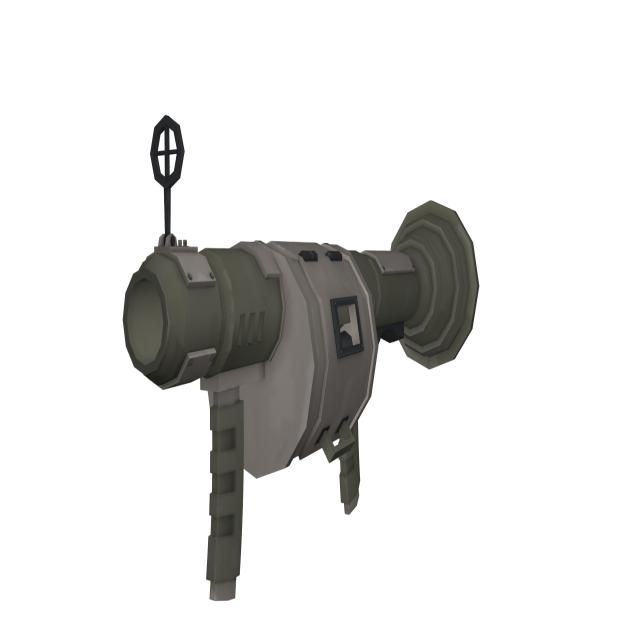bazooka: (95, 156, 495, 604)
